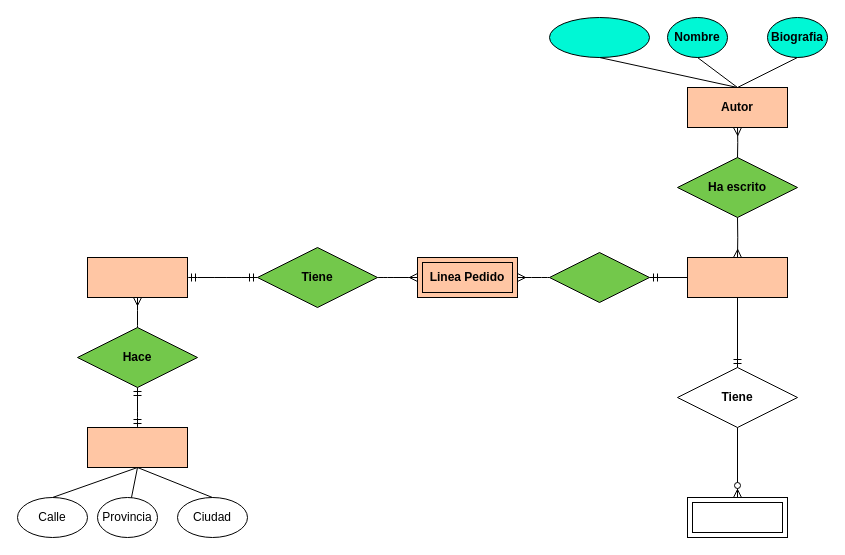
The diagram is 845 pixels wide and 555 high, and some of its shapes have lost their labels. The box of each missing label's shape, as (x1, y1, x2, y2) in pixels:
Cliente: (86, 426, 188, 468)
Esta en: (548, 252, 650, 302)
Id: (548, 16, 650, 58)
Libro: (686, 256, 788, 298)
Pedido: (86, 256, 188, 298)
Reseña: (686, 496, 788, 538)
